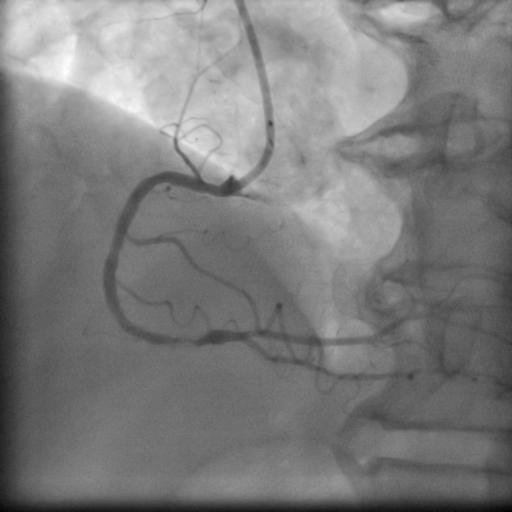Stenosis: (165, 329, 209, 350)
